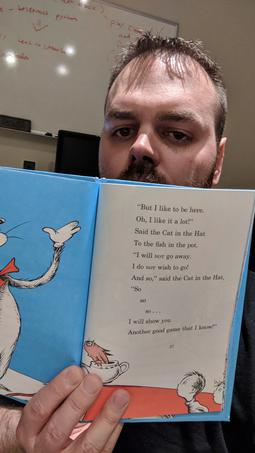text block: (122, 199, 229, 342)
